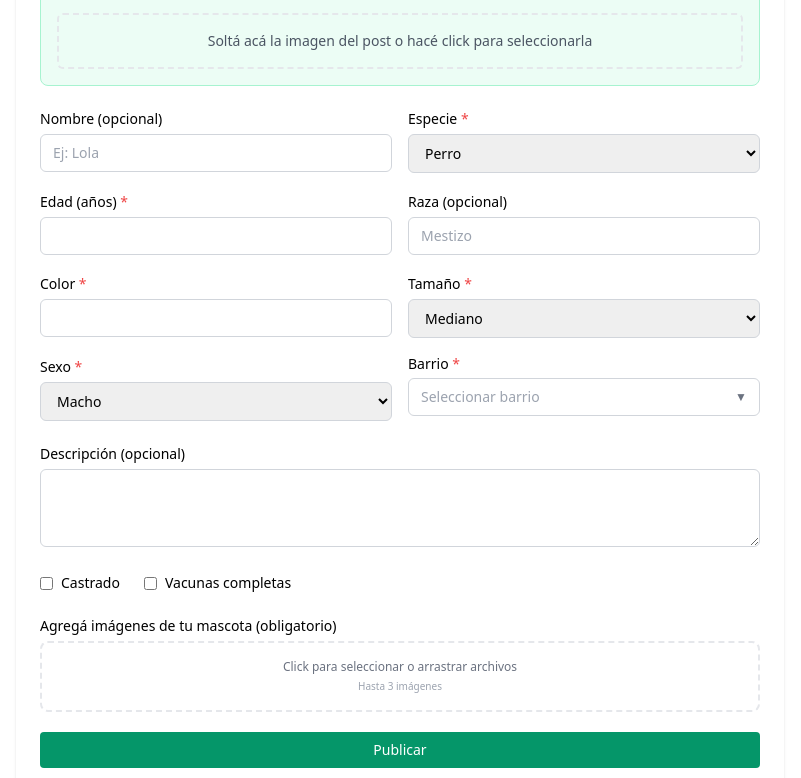
Scenario: AdoptionForm › validates required fields on submit
(page scrolled)
What coordinates should you click on to do the following:
click the button "Publicar"
I would click on:
 (400, 750)
Its box is [40,732,760,768].
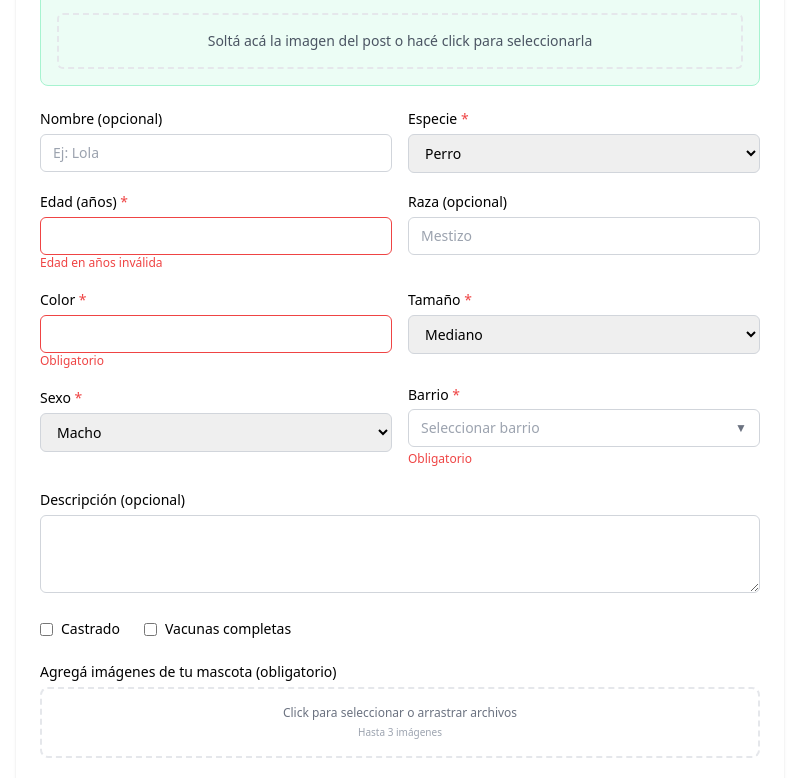
Now the text "Obligatorio" below "Color" is shown, box [40,352,104,369]
